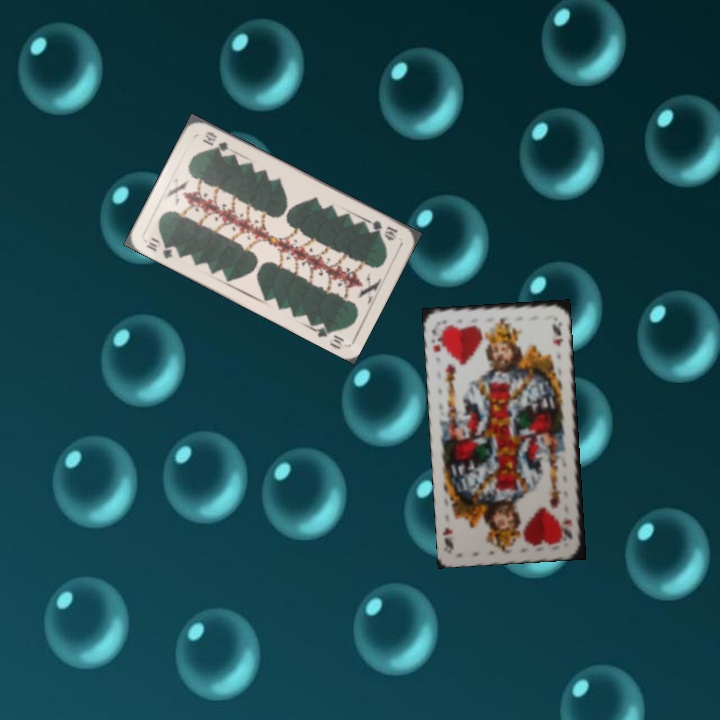G10: (364, 216, 400, 243), (141, 236, 175, 261)
HK: (428, 322, 443, 355), (560, 514, 575, 542)
